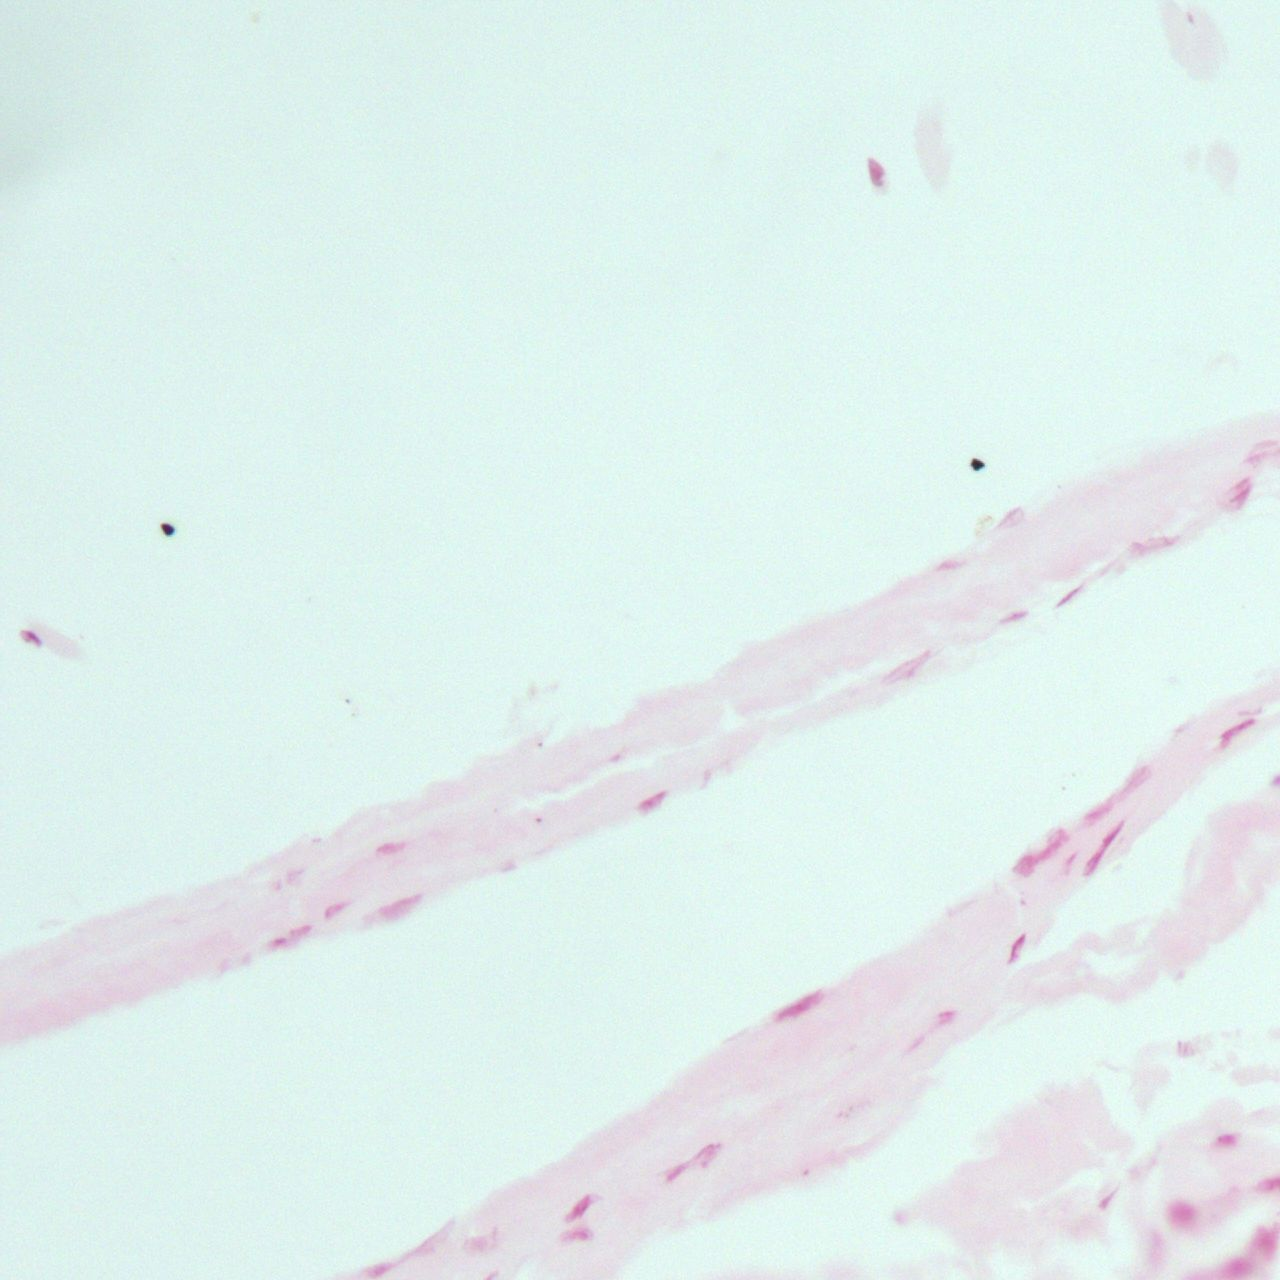dust: (160, 523, 175, 537), (970, 458, 986, 471), (798, 1170, 812, 1179), (344, 697, 350, 705), (537, 742, 544, 748), (534, 817, 541, 823)
nucleus-AC: (1076, 759, 1156, 833), (1009, 822, 1074, 883), (660, 1135, 723, 1189), (364, 887, 431, 933), (1080, 819, 1126, 879), (771, 984, 826, 1028), (881, 648, 936, 690), (1211, 716, 1260, 752), (1126, 529, 1182, 560), (563, 1191, 598, 1225), (1225, 476, 1253, 513), (1052, 580, 1086, 610), (558, 1222, 594, 1249), (1143, 1228, 1164, 1274), (1003, 932, 1030, 967), (866, 157, 889, 194), (994, 505, 1025, 532), (637, 789, 670, 814), (1254, 1226, 1278, 1260), (320, 896, 351, 922), (1170, 1202, 1196, 1226), (1096, 1185, 1120, 1211), (998, 608, 1028, 626), (17, 629, 39, 651), (1248, 436, 1279, 451), (1060, 850, 1079, 873), (905, 1035, 926, 1055), (268, 937, 294, 953), (374, 842, 404, 855), (285, 922, 310, 937), (1211, 1135, 1239, 1147), (935, 1009, 954, 1026), (464, 1236, 487, 1250), (936, 559, 959, 572), (607, 755, 622, 763), (270, 880, 280, 892)
